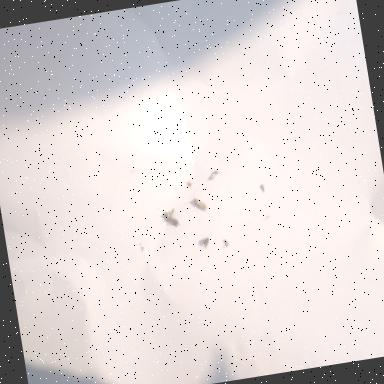pbw: (191, 187, 208, 212)
